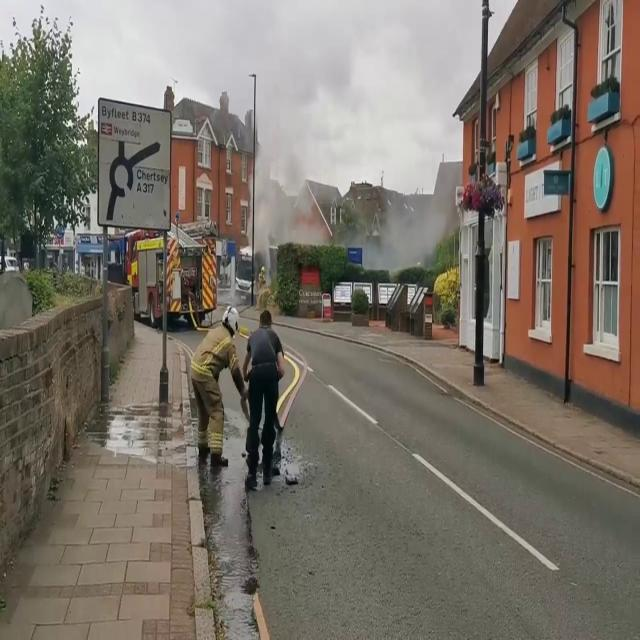Smoke: (251, 77, 321, 254), (368, 169, 452, 277)
